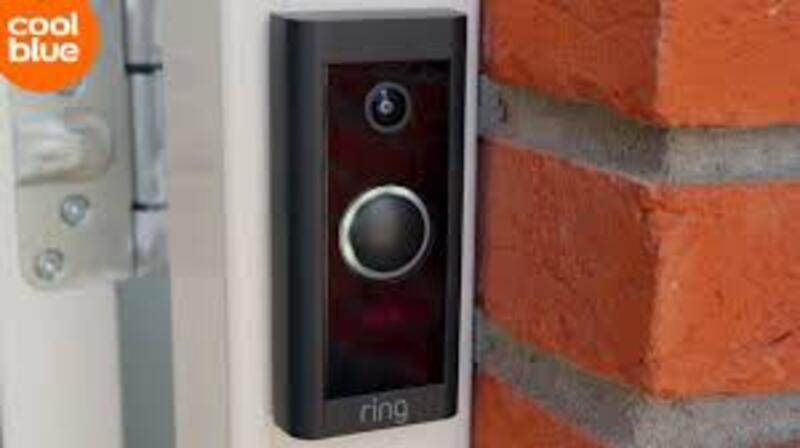doorbell: (285, 22, 457, 428)
